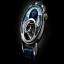watch: (16, 2, 51, 57)
